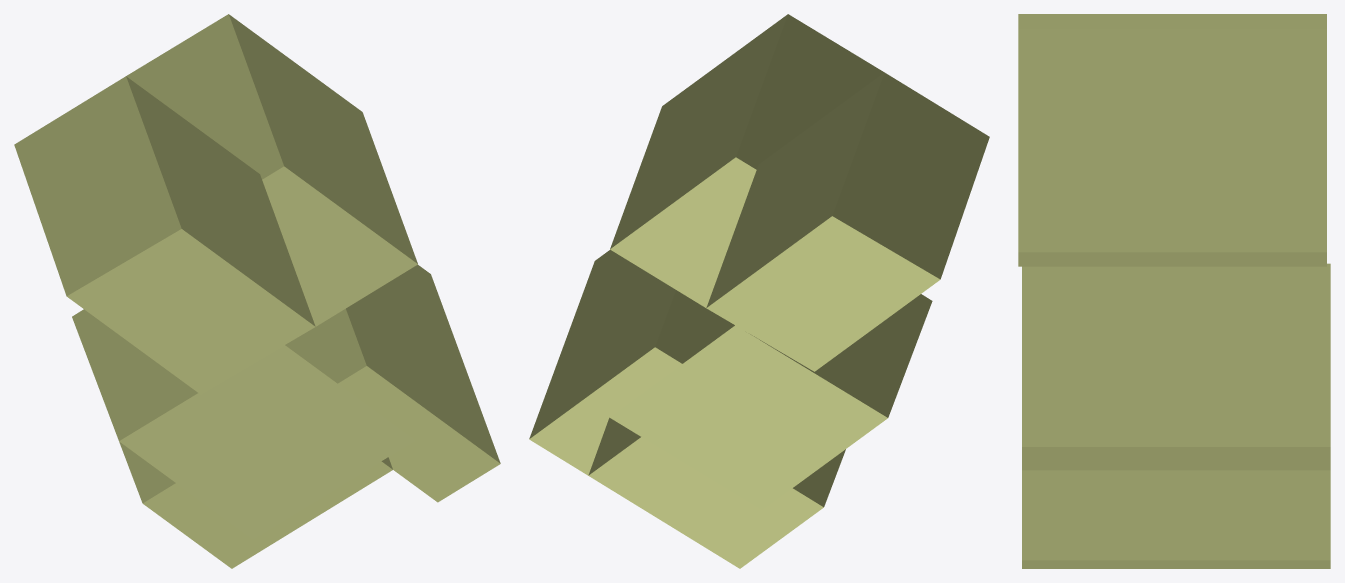
The picture shows the model from 3 angles, left to right: view 1: azimuth 30°, elevation 25°; view 2: azimuth 150°, elevation 25°; view 3: azimuth 270°, elevation 25°; orthographic projection. The views are drawn at different scales.
Parts seen in each view (by area): view 1: 0_1_1_3_2_2_3_1_3_3; view 2: 0_1_1_3_2_2_3_1_3_3; view 3: 0_1_1_3_2_2_3_1_3_3.
Boxes of the visible parts, x1,y1,x2,y2 form: 0_1_1_3_2_2_3_1_3_3: [14, 14, 500, 568]; 0_1_1_3_2_2_3_1_3_3: [529, 14, 989, 568]; 0_1_1_3_2_2_3_1_3_3: [1018, 14, 1330, 568].
Size of the model in its own units: 13.74 by 17.42 by 9.11.
